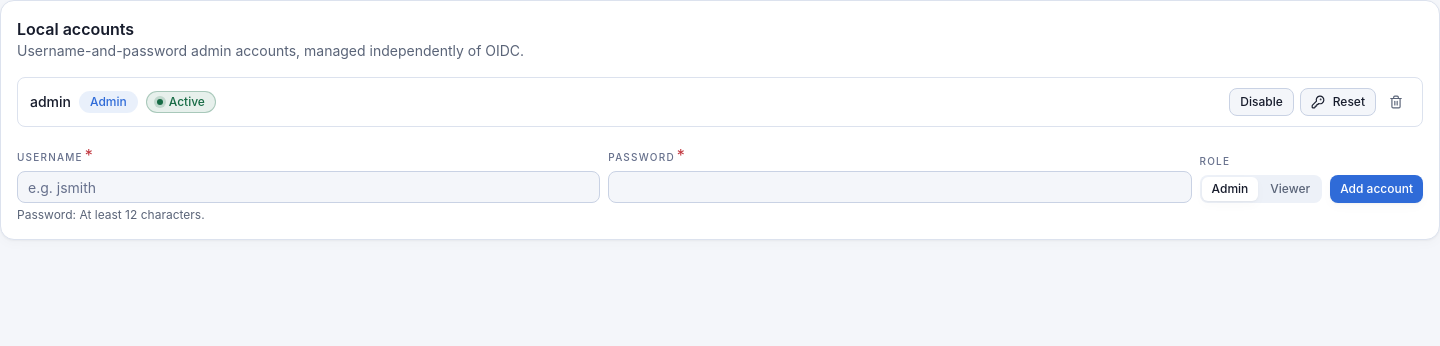
Test case: <LocalAccountsPanel> › opts both credential forms out of native constraint validation
Expected: the text "admin" is shown, [30, 92, 71, 112]
Click the button "Reset" at (1338, 102), box [1300, 88, 1376, 116]
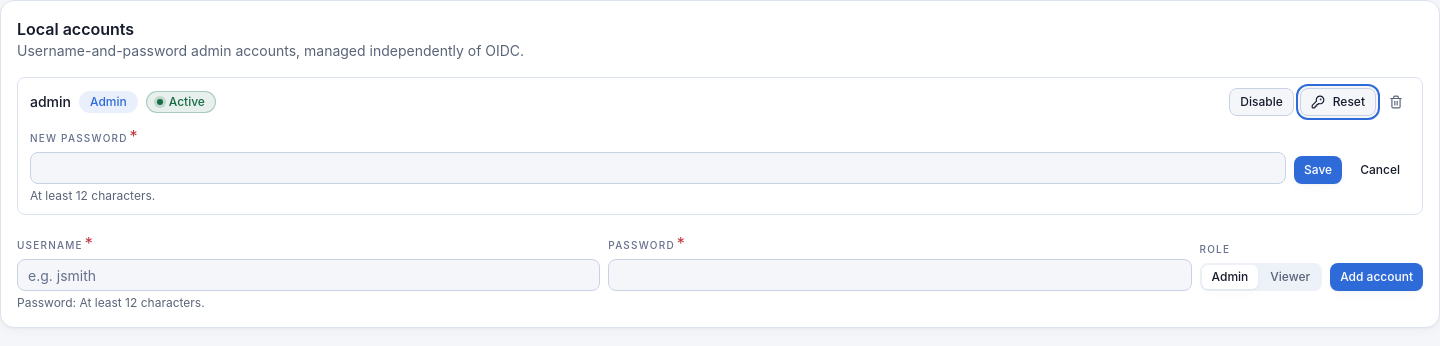
Expected: the number of forms is 2, [30, 124, 1410, 204]; [17, 231, 1423, 311]
